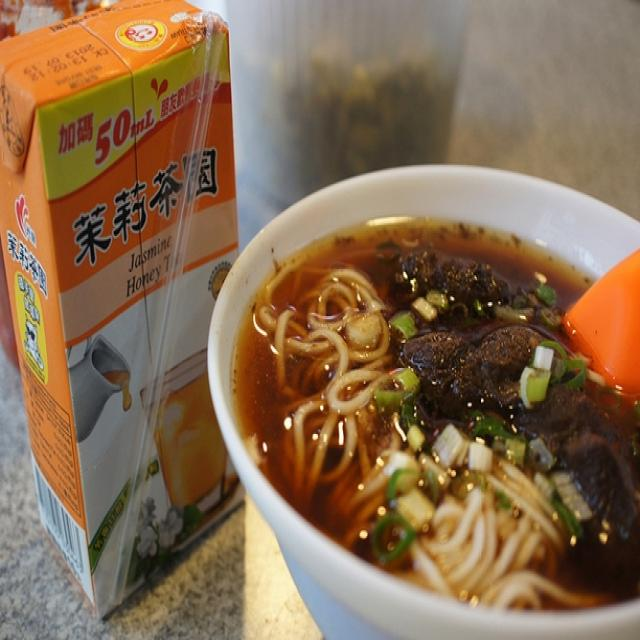面条主食: (202, 170, 634, 626)
